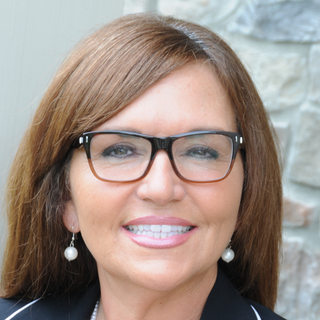eye: (100, 141, 144, 164), (183, 142, 226, 165)
